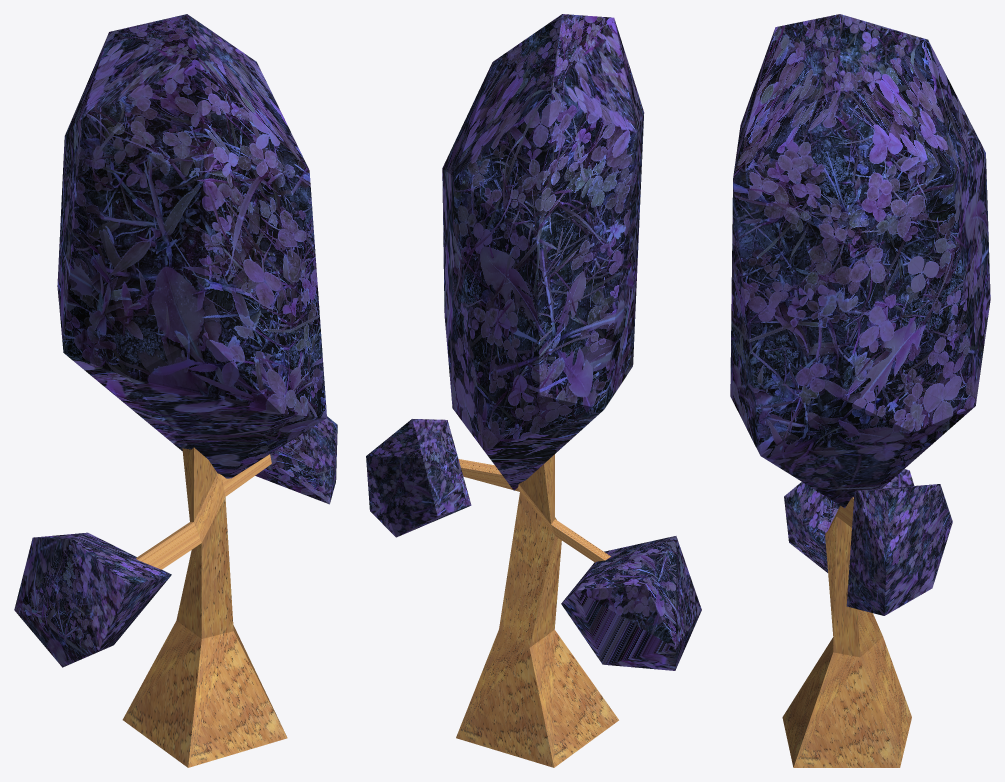
Rendered from TreeComplex.fbx.
3 views of the same model, side by side, from view 1: azimuth 30°, elevation 25°; view 2: azimuth 150°, elevation 25°; view 3: azimuth 270°, elevation 25° (orthographic).
Parts seen in each view (by area): view 1: GeoSphere001, Box001, GeoSphere003, GeoSphere002; view 2: GeoSphere001, Box001, GeoSphere003, GeoSphere002; view 3: GeoSphere001, Box001, GeoSphere002, GeoSphere003.
Part boxes in pixels (<box>): GeoSphere001: <box>57,14,326,478</box>; Box001: <box>122,447,287,767</box>; GeoSphere003: <box>14,532,171,667</box>; GeoSphere002: <box>255,416,337,504</box>; GeoSphere001: <box>442,14,644,490</box>; Box001: <box>456,454,618,767</box>; GeoSphere003: <box>561,536,701,670</box>; GeoSphere002: <box>366,419,471,537</box>; GeoSphere001: <box>730,14,990,507</box>; Box001: <box>782,497,911,767</box>; GeoSphere002: <box>846,484,952,615</box>; GeoSphere003: <box>784,469,914,572</box>.
Bounding box in the file's own units: 3.07 × 6.71 × 2.21.
